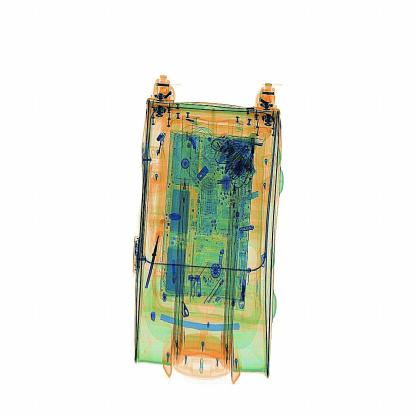gun: (140, 215, 180, 306)
